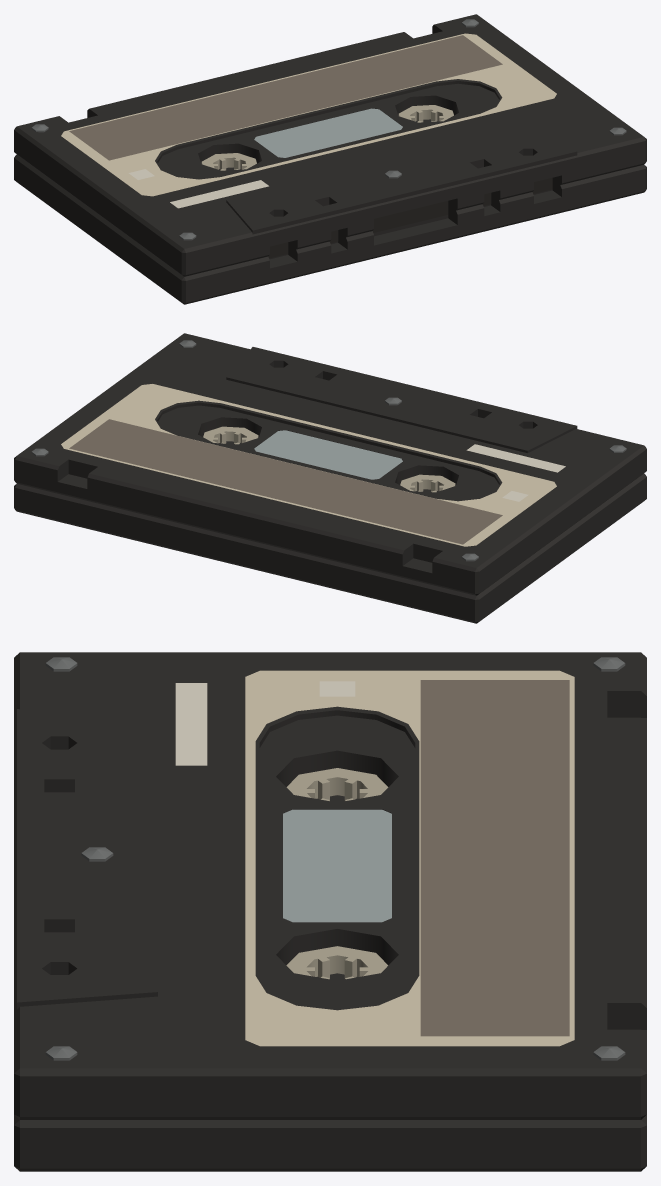
The model's file is cassette-single-0e890fc12c10.glb.
3 renders of one model, top to bottom at view 1: azimuth 30°, elevation 25°; view 2: azimuth 150°, elevation 25°; view 3: azimuth 270°, elevation 25°, orthographic. The views are drawn at different scales.
Visible parts, largest first — view 1: plastic-dark, cover-print, paper, glass-clear, cone-paper, plastic-light, decal-ink, metal; view 2: plastic-dark, cover-print, paper, glass-clear, plastic-light, decal-ink, metal; view 3: plastic-dark, cover-print, paper, glass-clear, plastic-light, decal-ink, metal.
Part boxes in pixels (x1,y1,x2,y2): plastic-dark: [14, 14, 646, 304]; cover-print: [69, 35, 502, 160]; paper: [61, 33, 556, 196]; glass-clear: [254, 108, 402, 157]; cone-paper: [268, 177, 552, 258]; plastic-light: [201, 105, 453, 170]; decal-ink: [128, 169, 268, 208]; metal: [31, 19, 626, 240]; plastic-dark: [14, 333, 646, 623]; cover-print: [69, 419, 502, 544]; paper: [61, 384, 556, 546]; glass-clear: [254, 430, 402, 479]; plastic-light: [203, 426, 455, 492]; decal-ink: [466, 444, 565, 501]; metal: [31, 340, 626, 561]; plastic-dark: [14, 652, 646, 1171]; cover-print: [420, 680, 569, 1036]; paper: [245, 670, 574, 1046]; glass-clear: [283, 809, 391, 922]; plastic-light: [286, 768, 388, 979]; decal-ink: [175, 681, 355, 765]; metal: [45, 657, 625, 1060].
Size of the model in its own units: 0.1004 by 0.0127 by 0.0638.
